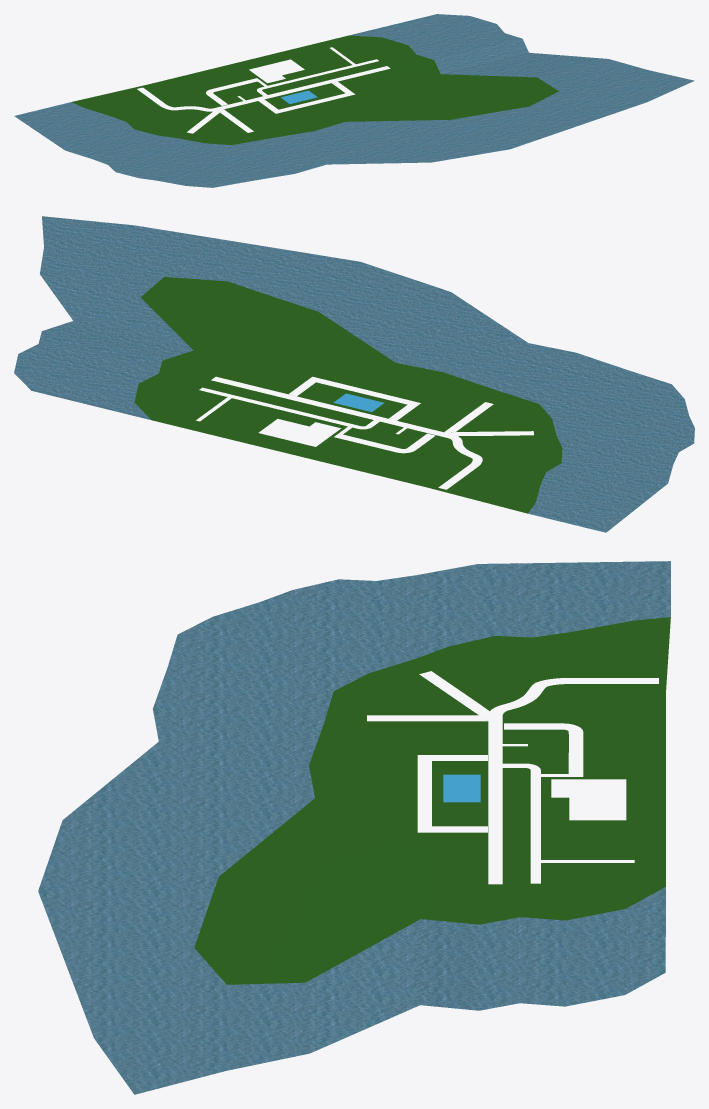
The model's file is Ground.fbx.
3 renders of one model, top to bottom at view 1: azimuth 30°, elevation 25°; view 2: azimuth 150°, elevation 25°; view 3: azimuth 270°, elevation 25°, orthographic. The views are drawn at different scales.
Parts seen in each view (by area): view 1: Ground; view 2: Ground; view 3: Ground.
Part boxes in pixels (x1,y1,x2,y2): Ground: (14,14,694,187); Ground: (14,216,694,532); Ground: (38,561,670,1094).
Bounding box in the file's own units: 847 × 1.86 × 424.
